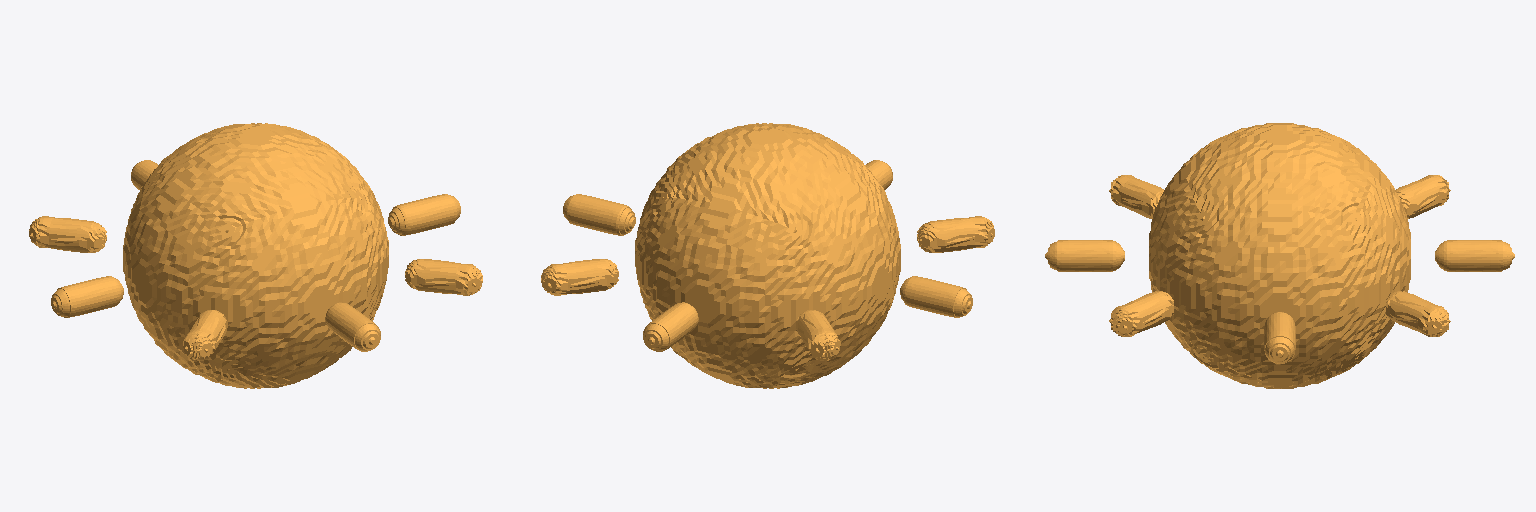
Rendered from sun.obj.
3 views of the same model, side by side, from view 1: azimuth 30°, elevation 25°; view 2: azimuth 150°, elevation 25°; view 3: azimuth 270°, elevation 25° (orthographic).
Bounding box in the file's own units: 200 × 112 × 200.